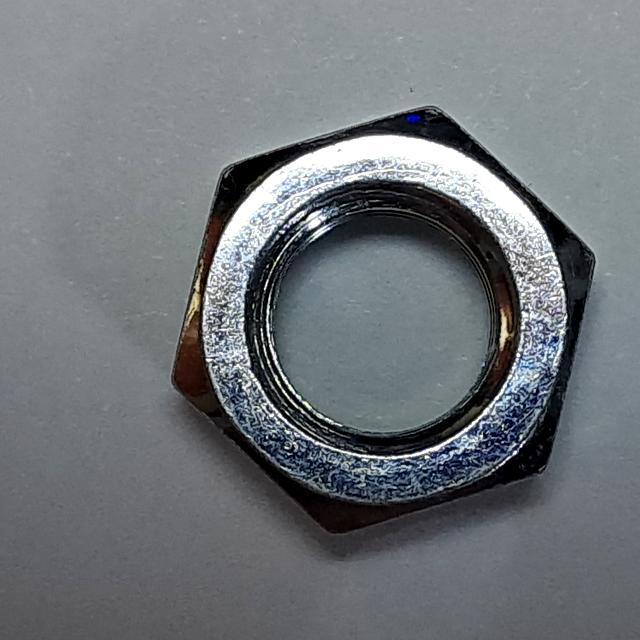Excellent: (156, 90, 609, 552)
